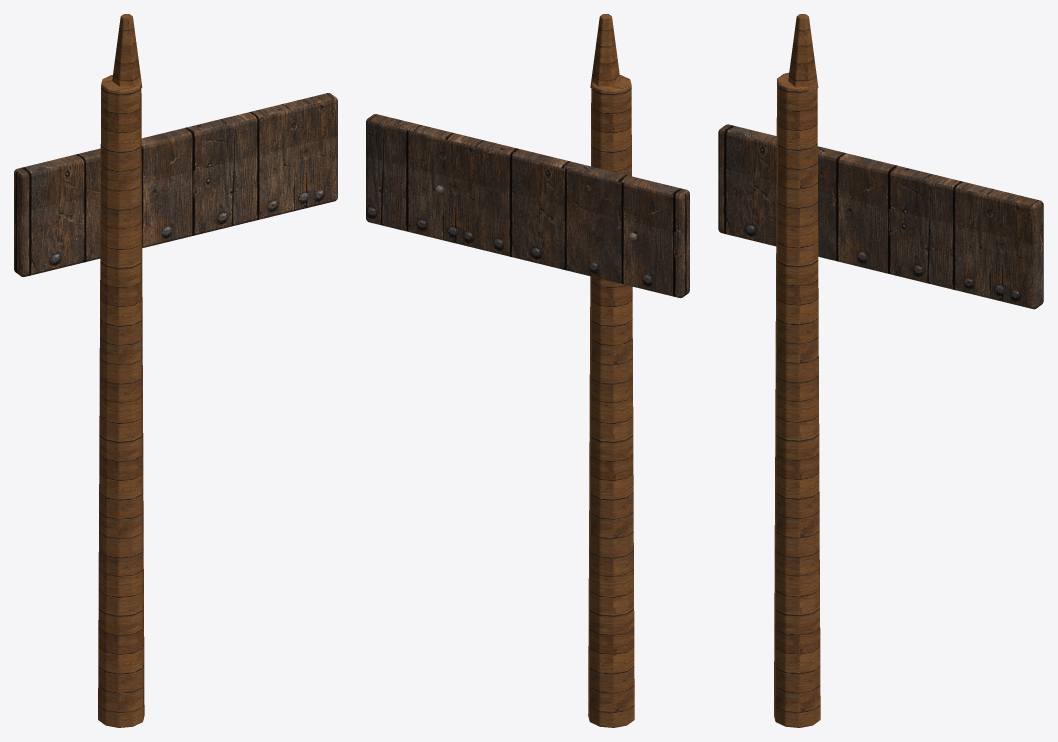
File: signpost-v01.glb
3 views of the same model, side by side, from view 1: azimuth 30°, elevation 25°; view 2: azimuth 150°, elevation 25°; view 3: azimuth 330°, elevation 25° (orthographic).
Visible parts, largest first — view 1: signpost; view 2: signpost; view 3: signpost.
Part boxes in pixels (x1=…): signpost: x1=14, y1=14, x2=337, y2=727; signpost: x1=366, y1=14, x2=689, y2=727; signpost: x1=718, y1=14, x2=1043, y2=727.
Size of the model in its own units: 1.15 by 2.42 by 0.2136.
Materials: 3 (3 with a texture image).
